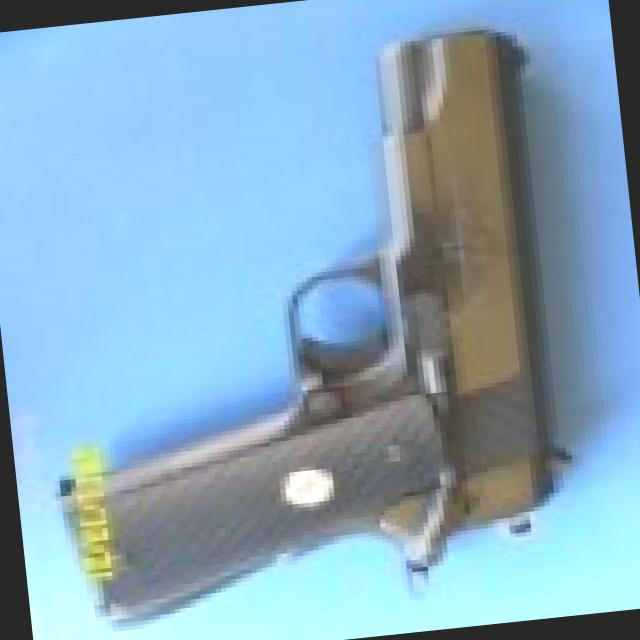handgun: (19, 7, 606, 639)
